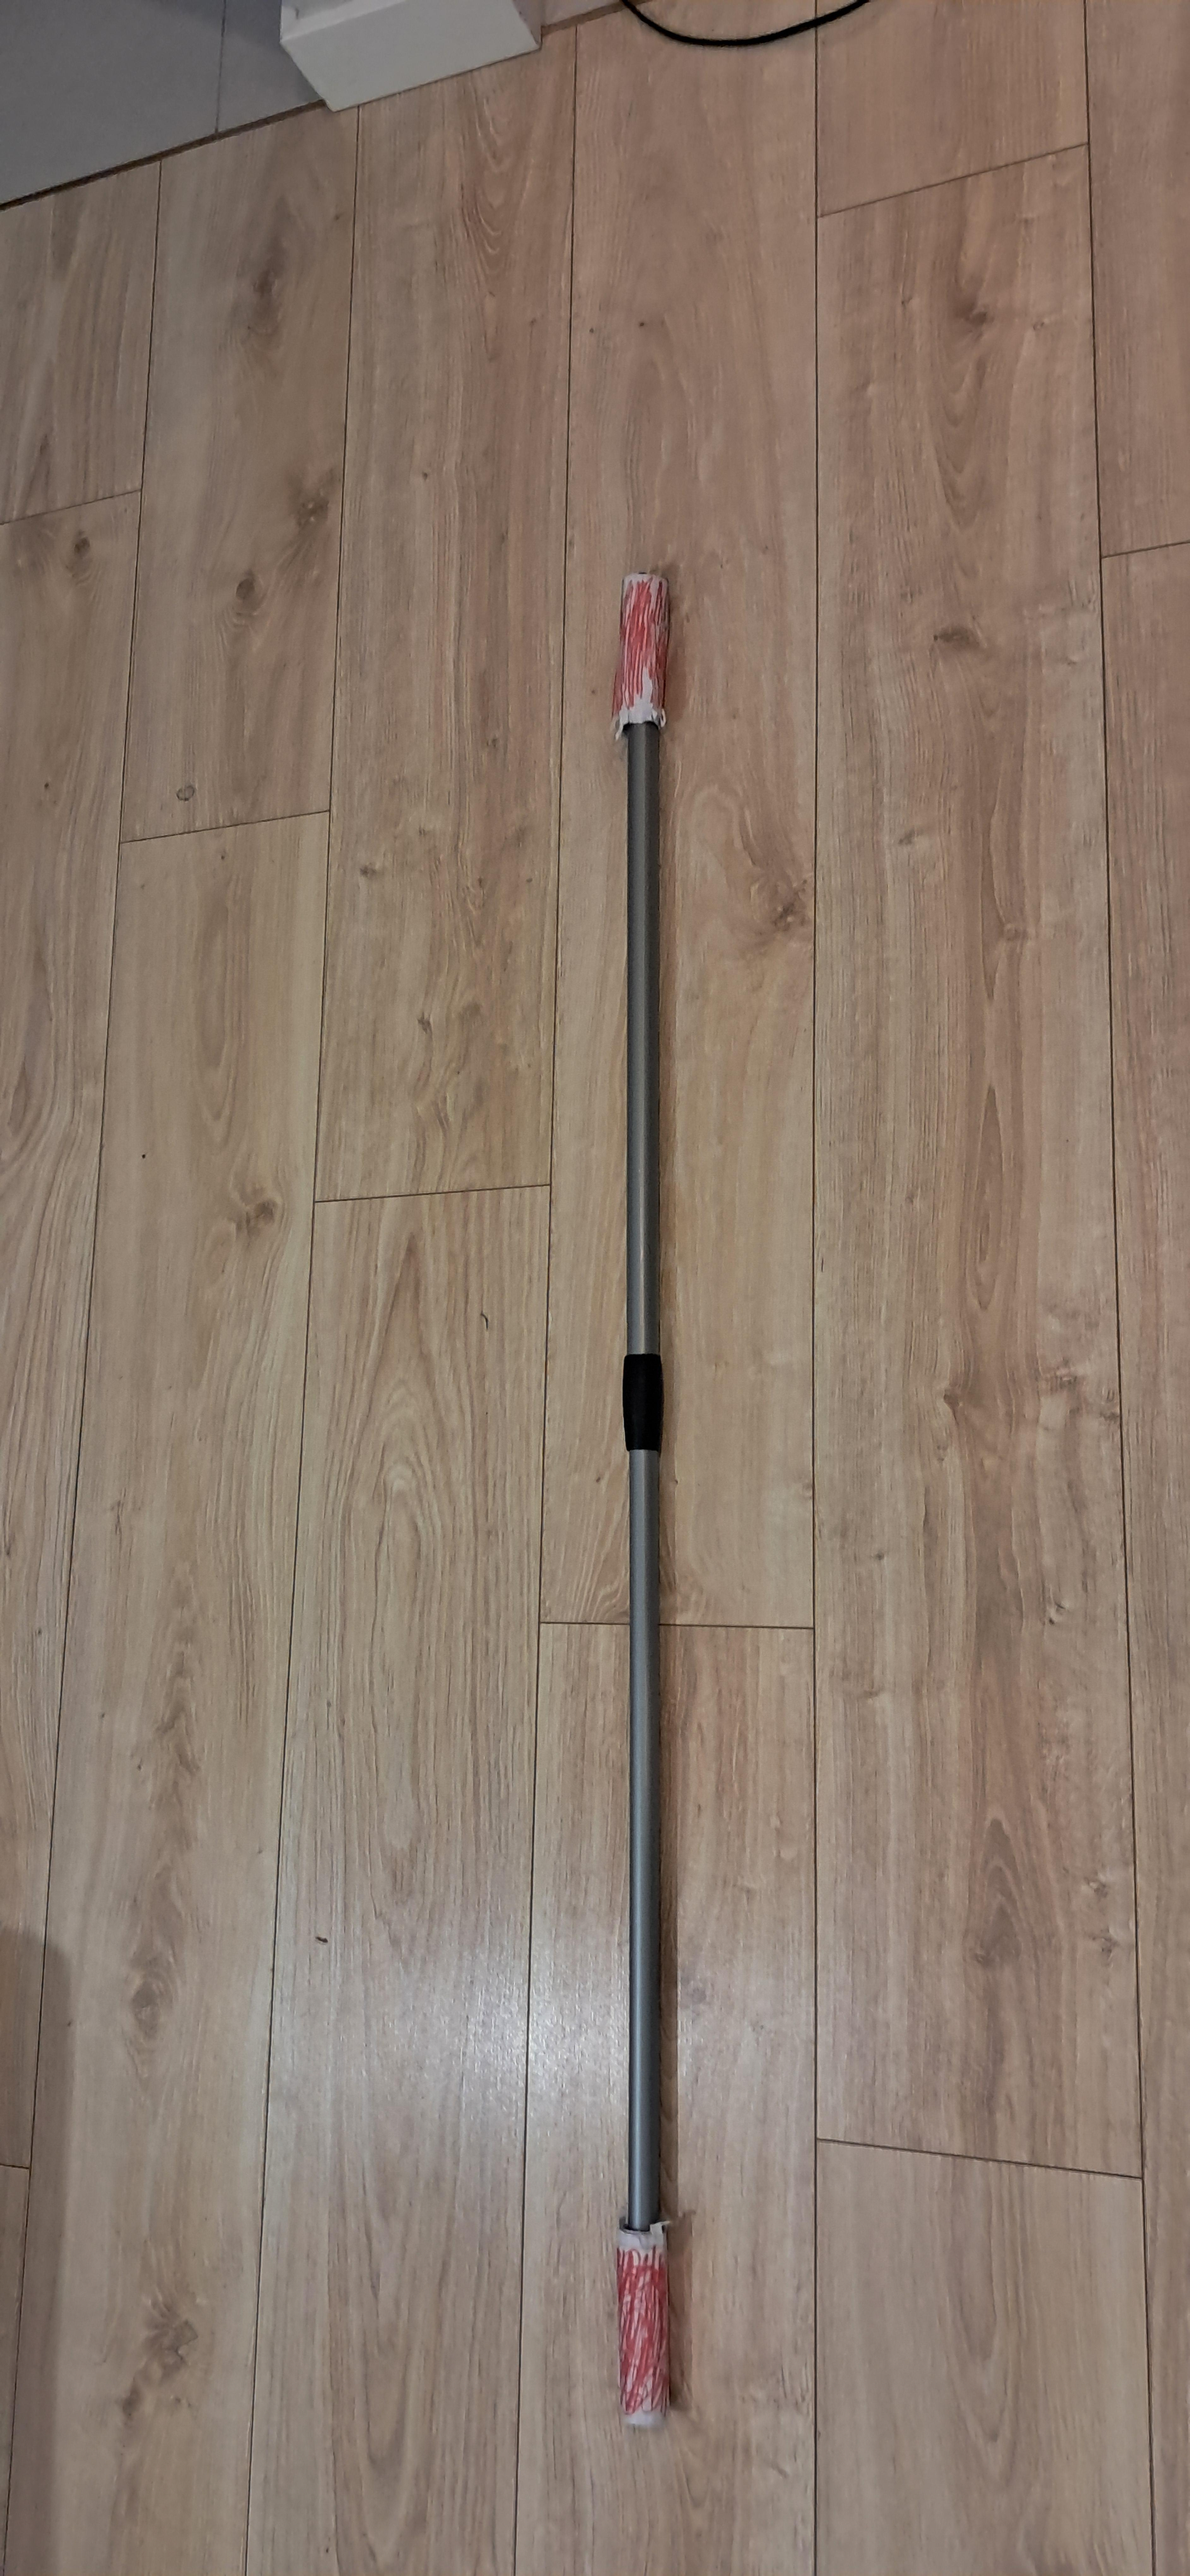broom-handle: (613, 573, 669, 2428)
